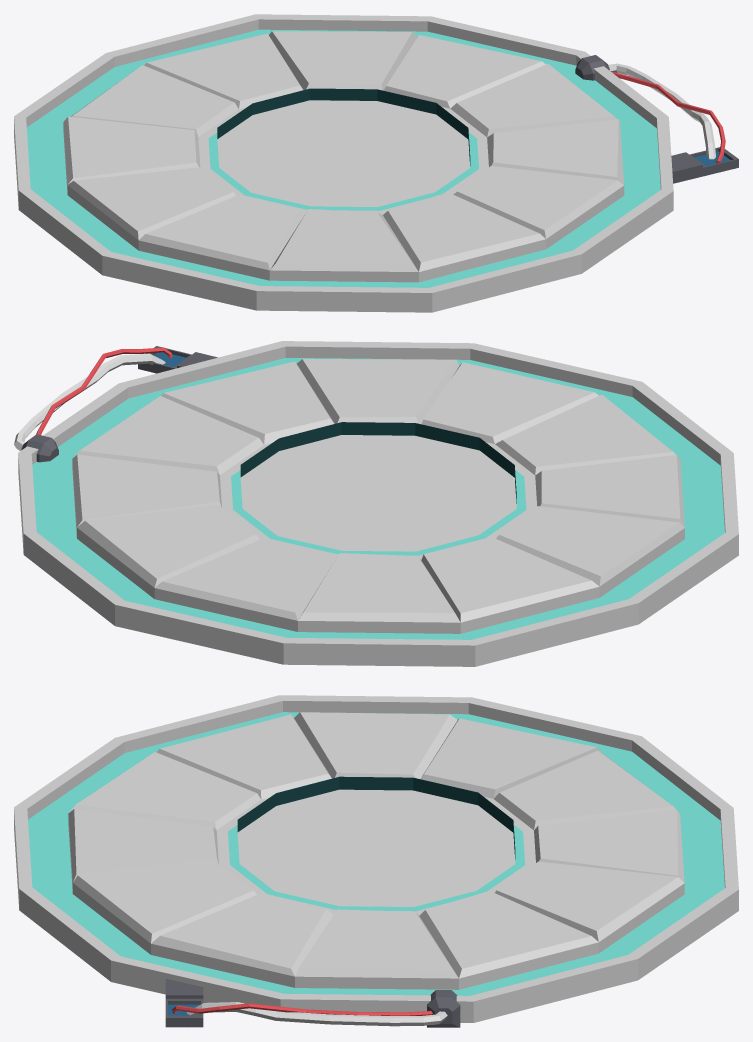
3 views of the same model, one above another, from view 1: azimuth 30°, elevation 25°; view 2: azimuth 150°, elevation 25°; view 3: azimuth 270°, elevation 25° (orthographic). The views are drawn at different scales.
Parts seen in each view (by area): view 1: 柱体.001; view 2: 柱体.001; view 3: 柱体.001.
Boxes of the visible parts, x1,y1,x2,y2 form: 柱体.001: (14,14,738,312); 柱体.001: (14,341,738,666); 柱体.001: (14,695,738,1027).
Size of the model in its own units: 148 by 8.46 by 141.
